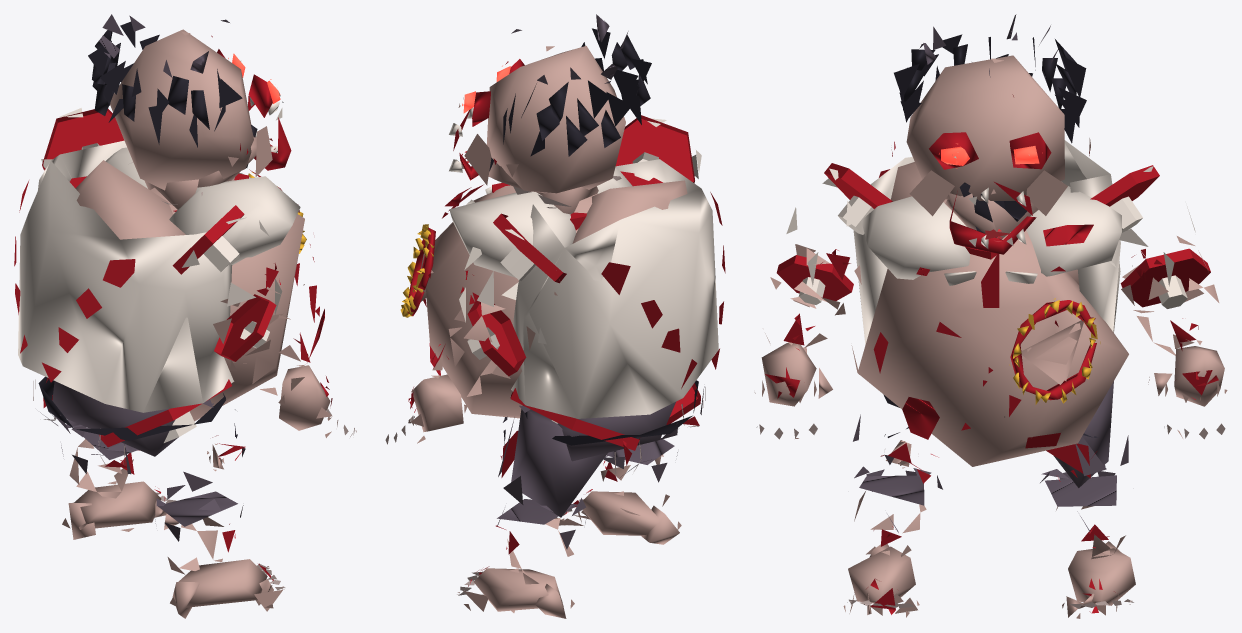
The picture shows the model from 3 angles, left to right: view 1: azimuth 30°, elevation 25°; view 2: azimuth 150°, elevation 25°; view 3: azimuth 270°, elevation 25°; orthographic projection. The views are drawn at different scales.
Parts seen in each view (by area): view 1: torso, head, hip, footR, footL, shinR, stump_armL, handR, stump_foreArmR, shinL, stump_armR, armR (+3 smaller); view 2: torso, head, legL, footL, footR, stump_armR, hip, handL, stump_foreArmL, shinL, stump_armL, armL (+4 smaller); view 3: torso, head, footL, footR, handR, legL, handL, stump_foreArmL, shinL, shinR, stump_foreArmR, stump_armL (+6 smaller).
Boxes of the visible parts, x1,y1,x2,y2 form: torso: [14, 140, 324, 421]; head: [88, 14, 291, 209]; hip: [38, 376, 225, 456]; footR: [170, 558, 285, 618]; footL: [62, 481, 179, 539]; shinR: [153, 485, 243, 574]; stump_armL: [42, 109, 124, 188]; handR: [278, 364, 356, 437]; stump_foreArmR: [214, 294, 276, 361]; shinL: [61, 426, 139, 498]; stump_armR: [172, 205, 244, 274]; armR: [182, 217, 283, 363]; torso: [400, 159, 725, 418]; head: [449, 14, 651, 214]; legL: [498, 405, 641, 517]; footL: [457, 566, 574, 618]; footR: [554, 489, 681, 544]; stump_armR: [615, 115, 694, 186]; hip: [525, 380, 698, 461]; handL: [385, 374, 467, 444]; stump_foreArmL: [467, 300, 526, 376]; shinL: [496, 497, 586, 584]; stump_armL: [493, 213, 566, 283]; armL: [454, 229, 535, 350]; torso: [851, 140, 1132, 466]; head: [891, 14, 1090, 254]; footL: [1062, 541, 1135, 618]; footR: [843, 544, 919, 617]; handR: [754, 342, 832, 439]; legL: [1041, 381, 1128, 487]; handL: [1148, 340, 1227, 439]; stump_foreArmL: [1120, 248, 1210, 308]; shinL: [1040, 464, 1125, 559]; shinR: [854, 466, 942, 556]; stump_foreArmR: [776, 255, 853, 304]; stump_armL: [1090, 165, 1159, 232].
Bounding box in the file's own units: 0.9944 × 1.8 × 1.37.
